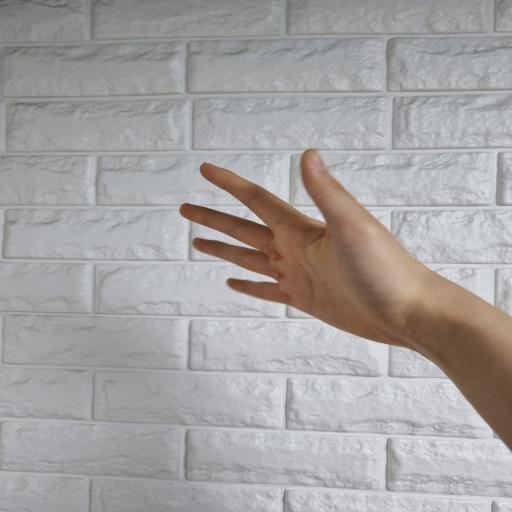Paper: (180, 149, 512, 451)
